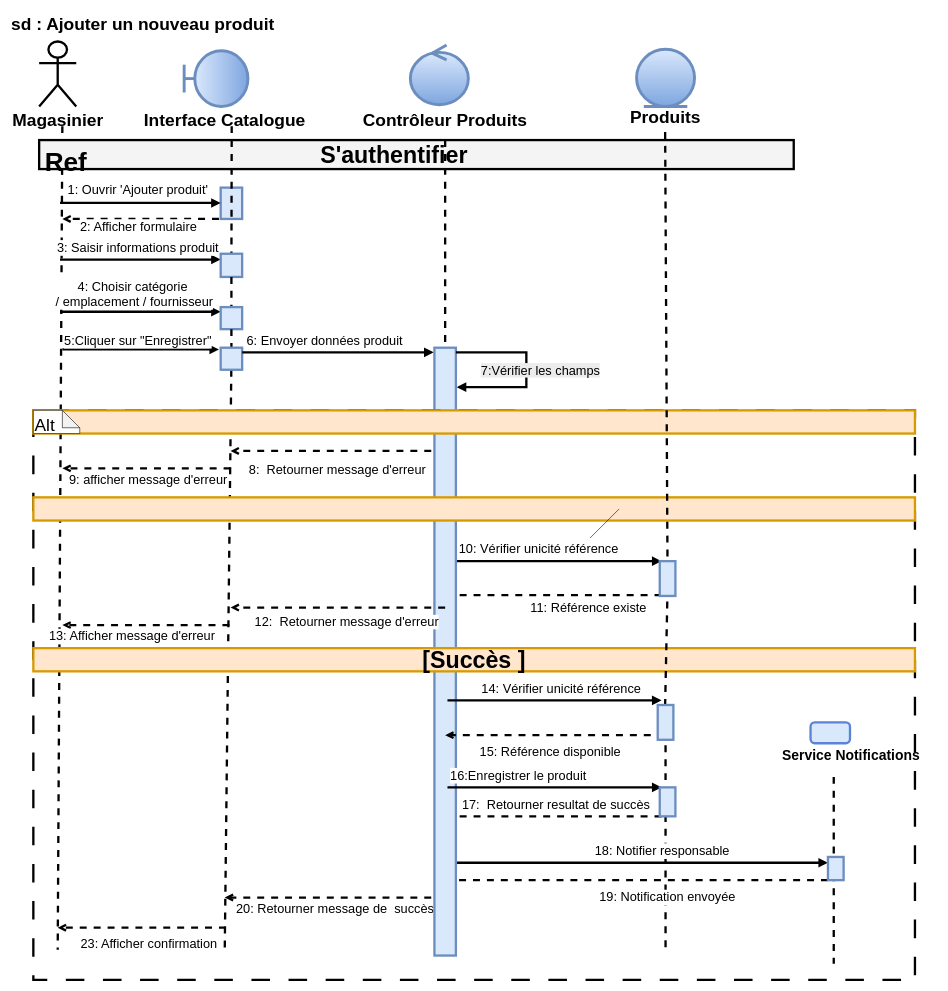
The diagram is 948 pixels wide and 991 high, and some of its shapes have lost their labels. Here are the shapes that lost their labels. From the top down, the box of each, then its label:
(32, 409, 916, 434): [Champs vides]
(32, 496, 916, 521): [Références déja utilisé]
